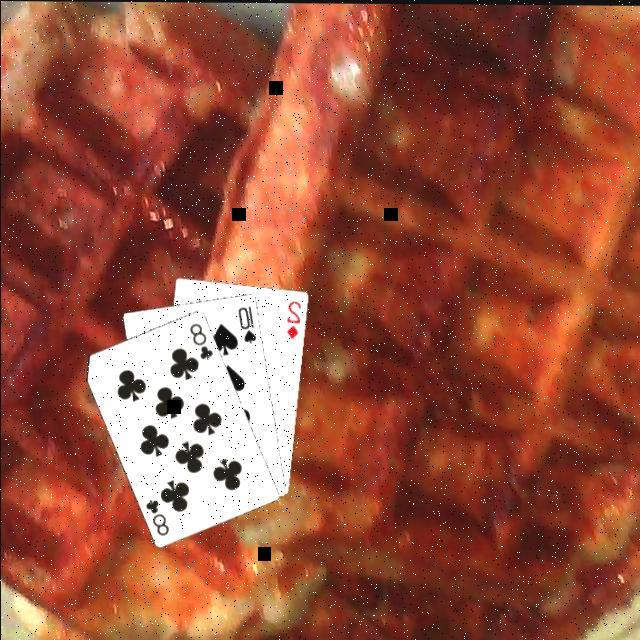10S: (234, 302, 258, 346)
2D: (282, 298, 303, 342)
8C: (185, 321, 215, 363), (140, 496, 170, 538)
